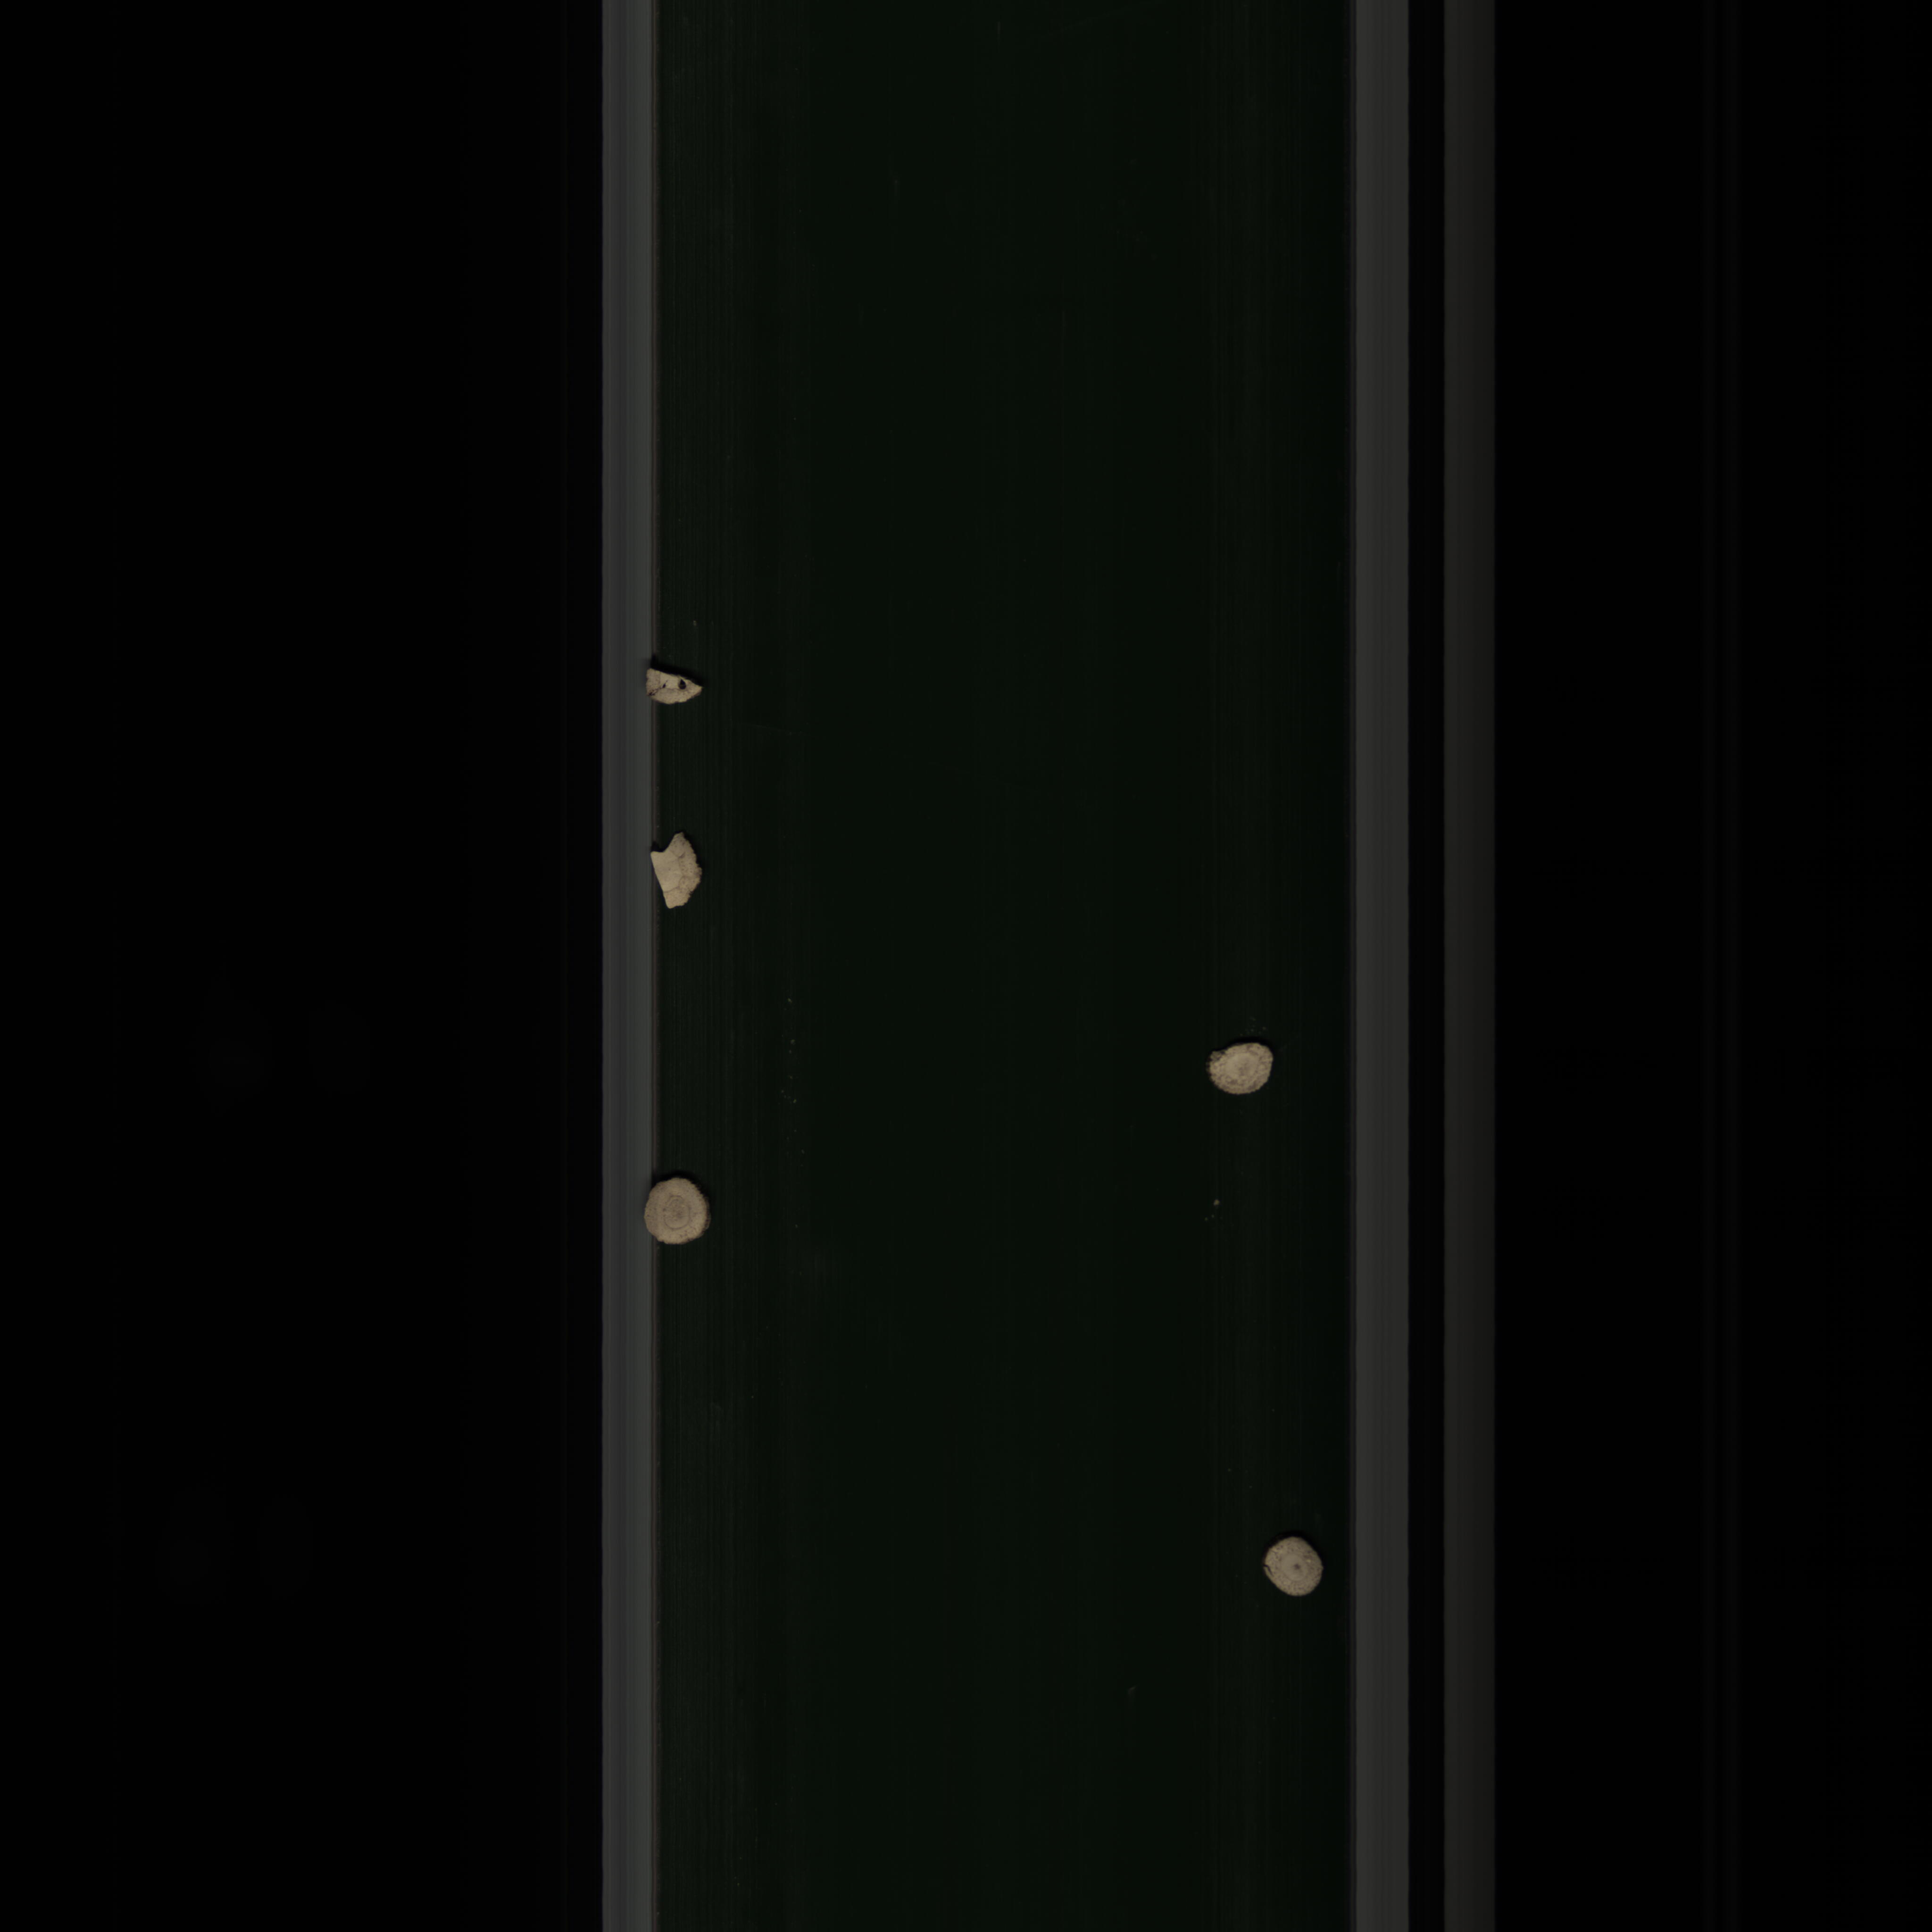debris: (644, 805, 715, 920), (640, 656, 711, 720)
